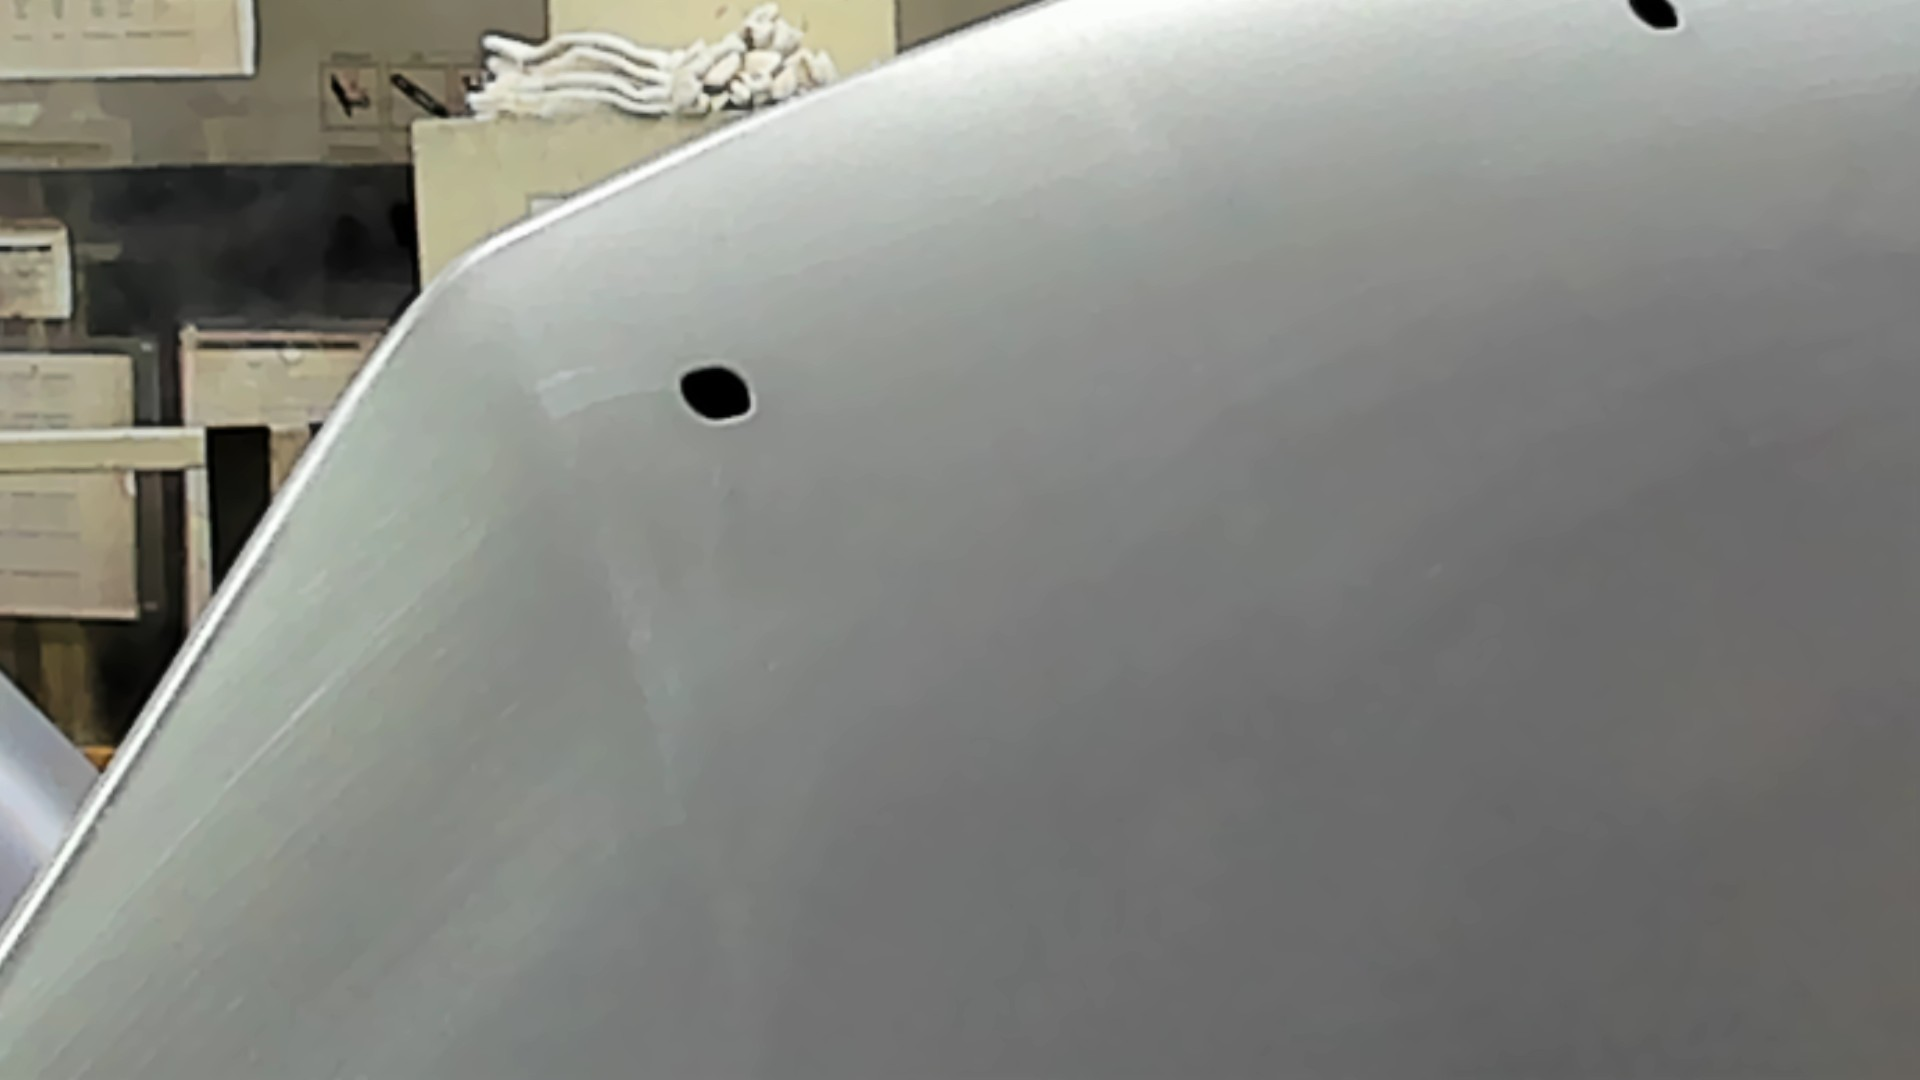amorfo: (671, 359, 764, 429), (1629, 1, 1683, 37)
